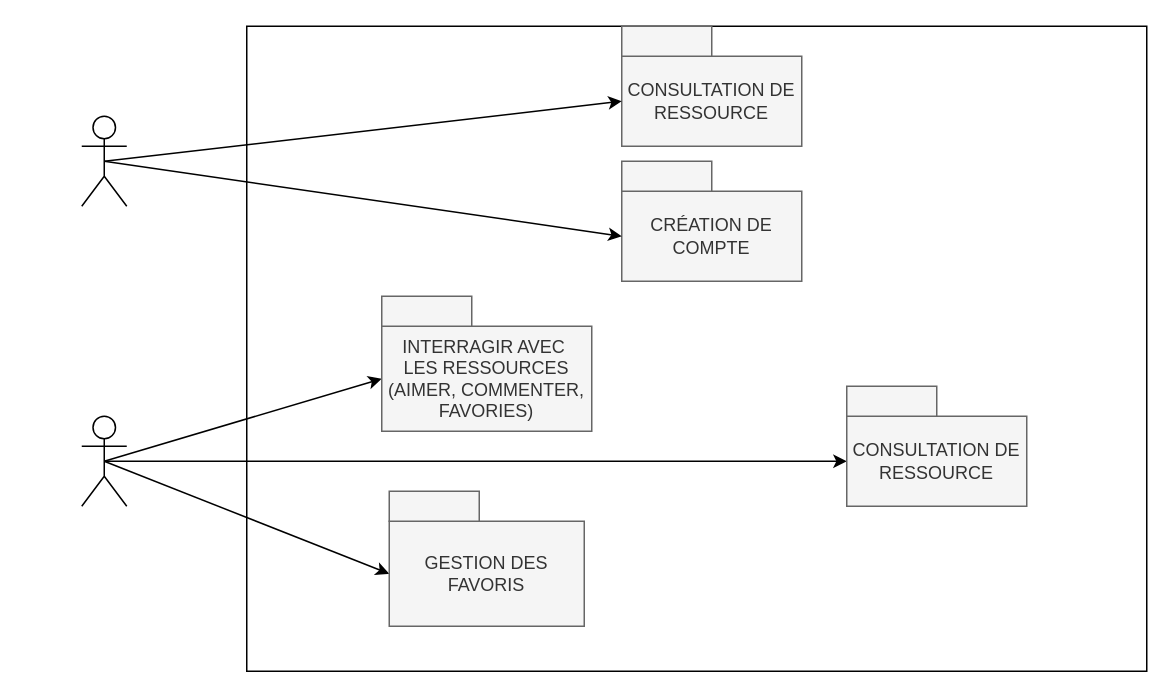
This 1173x698 diagram has some shape labels left out. The shapes that lost their labels are listed below. From the top down, each one's box as (x1, y1, x2, y2) in pixels, then its label:
(80, 115, 127, 206): utilisateur lambda
(80, 415, 127, 506): uilisateur connecter
